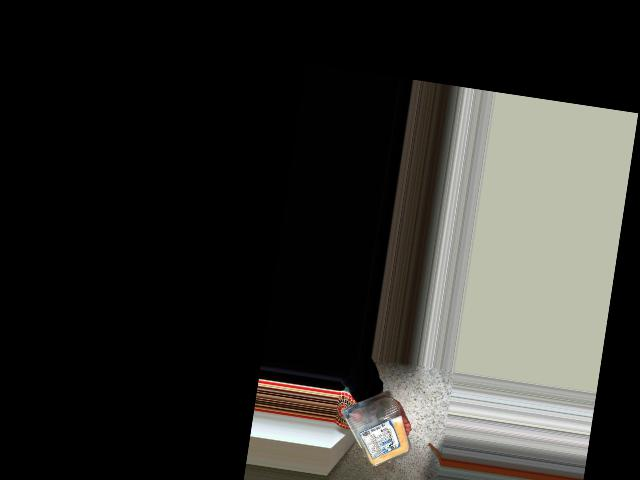cheese: (340, 395, 407, 472)
